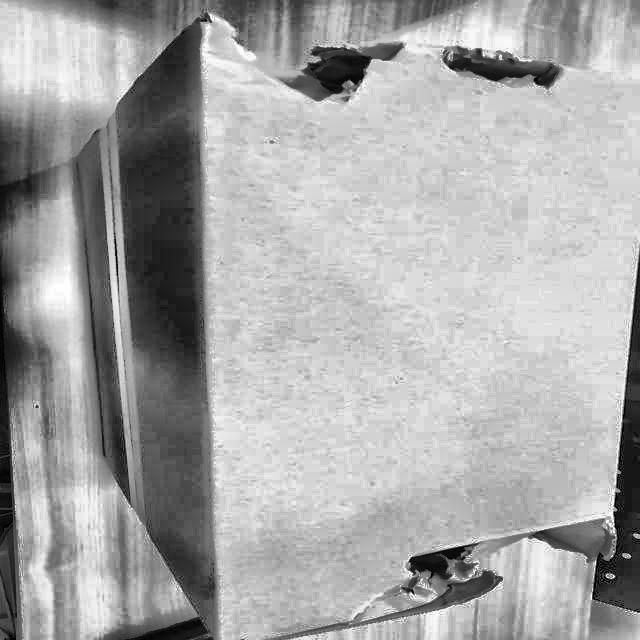box: (63, 6, 639, 639)
hole: (203, 13, 405, 99), (386, 514, 613, 586), (441, 45, 561, 91)
